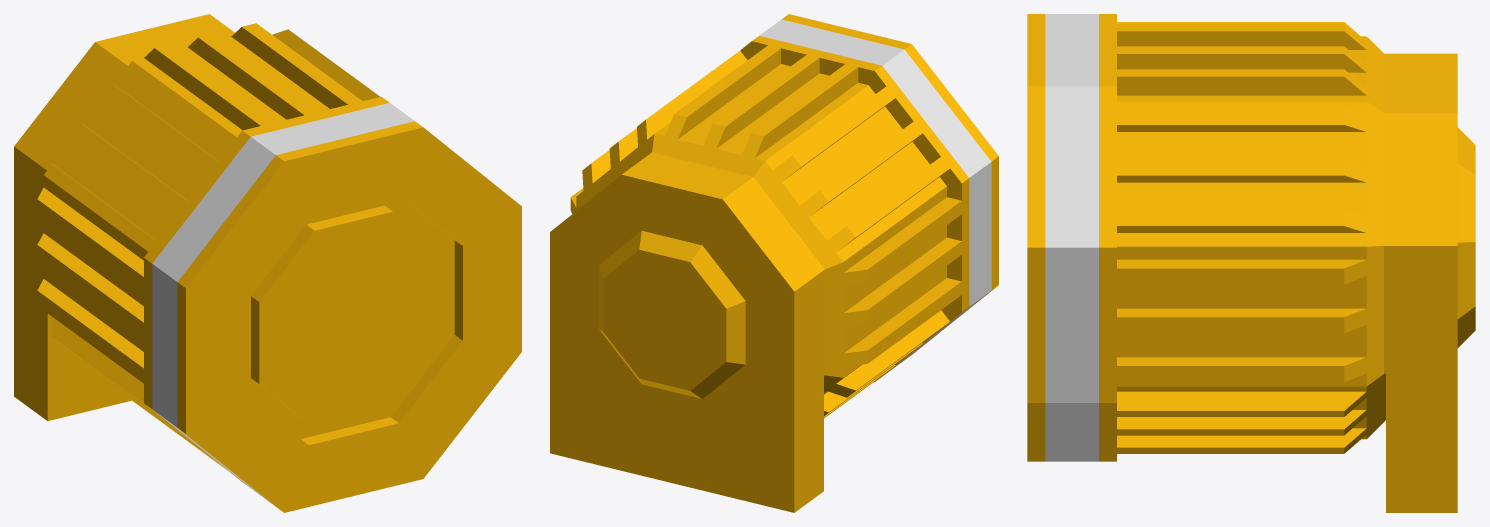
Rendered from modular_engine_alternator_housing.dae.
3 views of the same model, side by side, from view 1: azimuth 30°, elevation 25°; view 2: azimuth 150°, elevation 25°; view 3: azimuth 270°, elevation 25° (orthographic). The views are drawn at different scales.
Parts seen in each view (by area): view 1: Cube; view 2: Cube; view 3: Cube.
Boxes of the visible parts, bbox=[...] form: Cube: bbox=[14, 14, 521, 512]; Cube: bbox=[550, 14, 998, 512]; Cube: bbox=[1027, 14, 1475, 512].
Bounding box in the file's own units: 0.231 × 0.25 × 0.2405.
